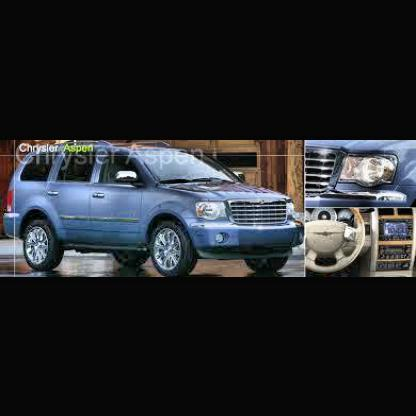Chrysler Aspen SUV 2009: (7, 143, 304, 277)
